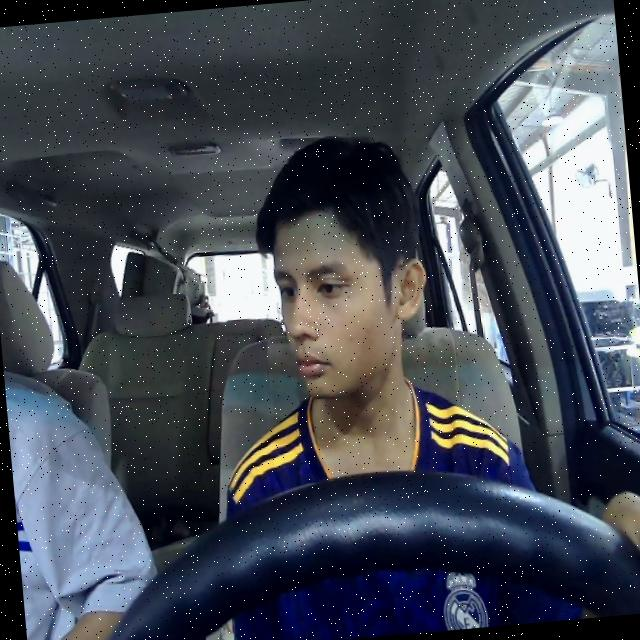seeing_left: (267, 198, 434, 402)
